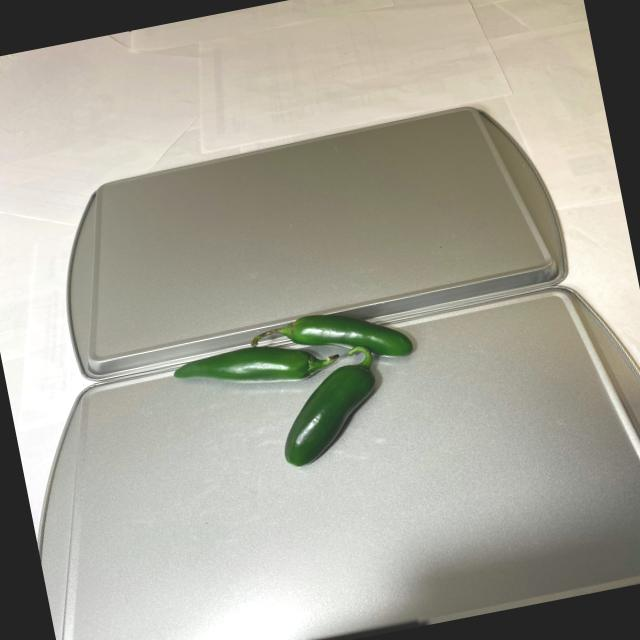chilli: (160, 291, 448, 494)
